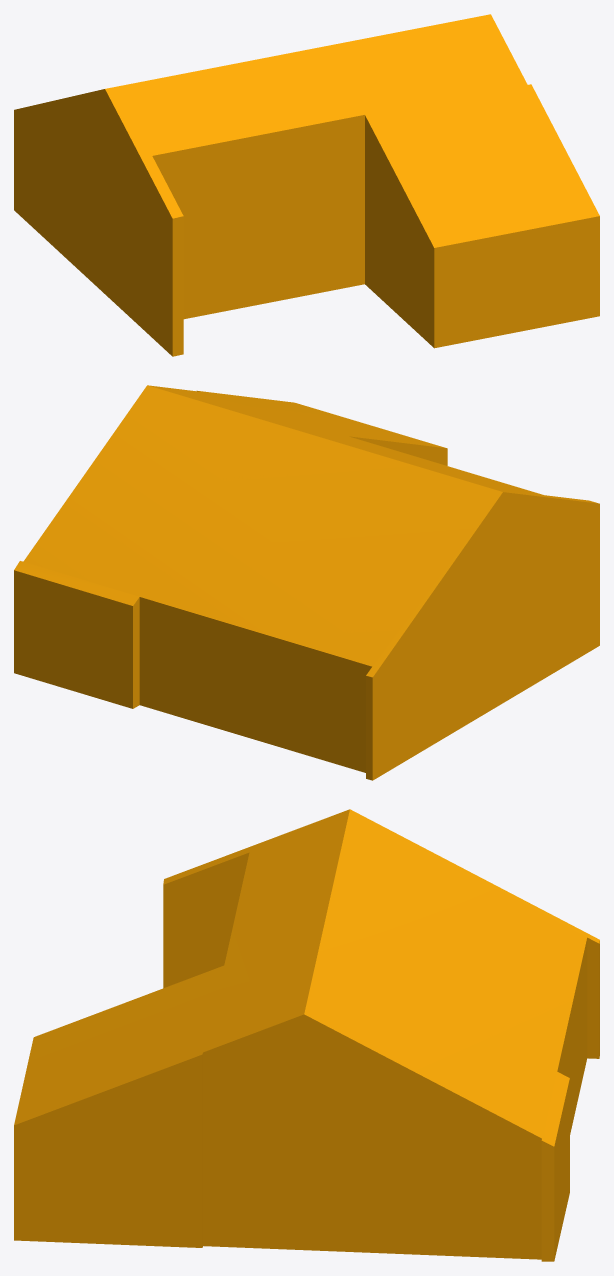
File: DEHB01ALs0000fsp.gltf
The picture shows the model from 3 angles, top to bottom: view 1: azimuth 30°, elevation 25°; view 2: azimuth 150°, elevation 25°; view 3: azimuth 270°, elevation 25°; orthographic projection. The views are drawn at different scales.
Visible parts, largest first — view 1: Z_UP; view 2: Z_UP; view 3: Z_UP.
Boxes of the visible parts, x1,y1,x2,y2 form: Z_UP: (14, 14, 599, 356); Z_UP: (14, 385, 599, 780); Z_UP: (14, 809, 599, 1261).
Size of the model in its own units: 13.84 by 6.79 by 15.29.
